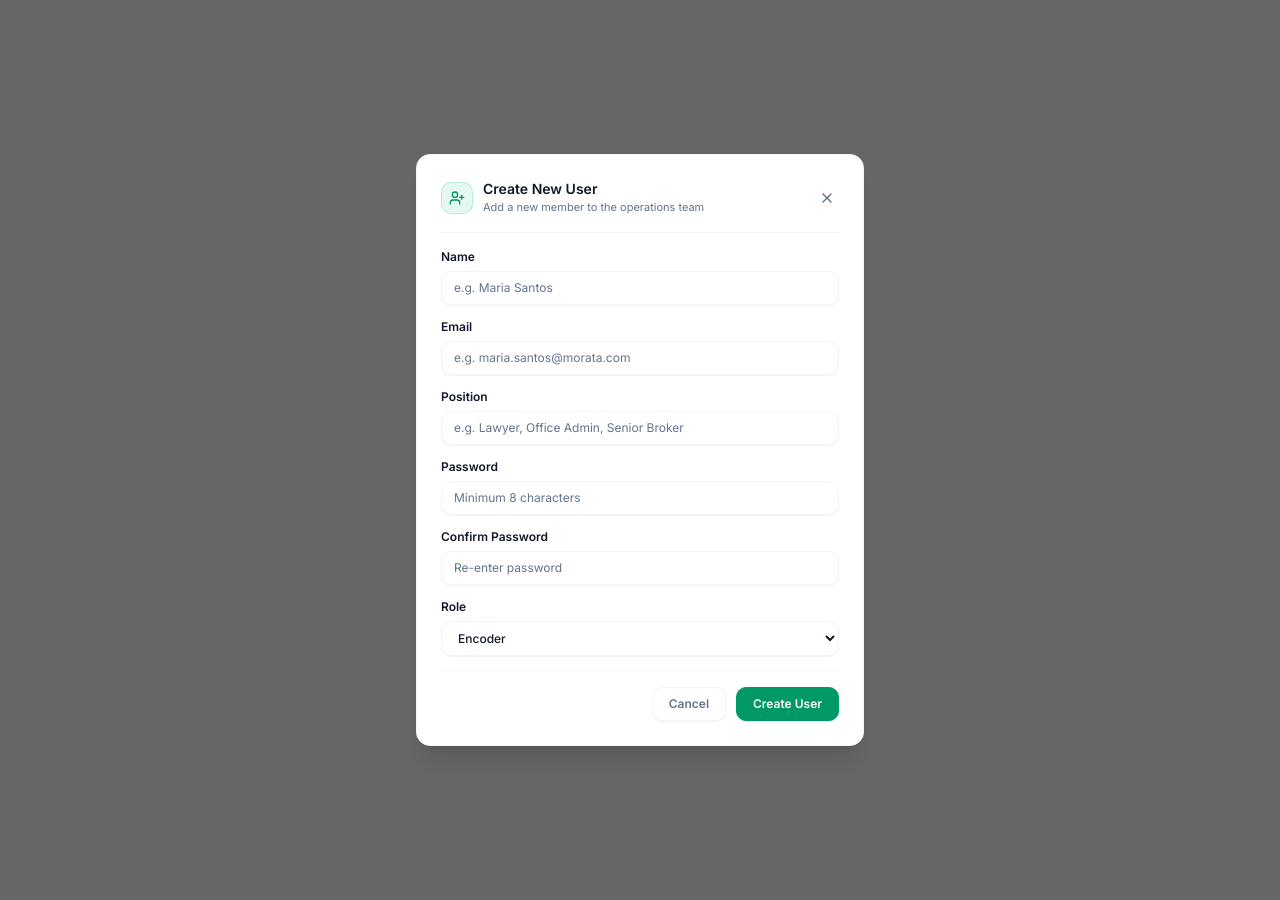
it: UserFormModal › shows a local error and blocks submit when passwords do not match
Step 1. Type "Ichihara" into the field labelled "Name" → x=640, y=288, box left=441, top=271, right=839, bottom=305
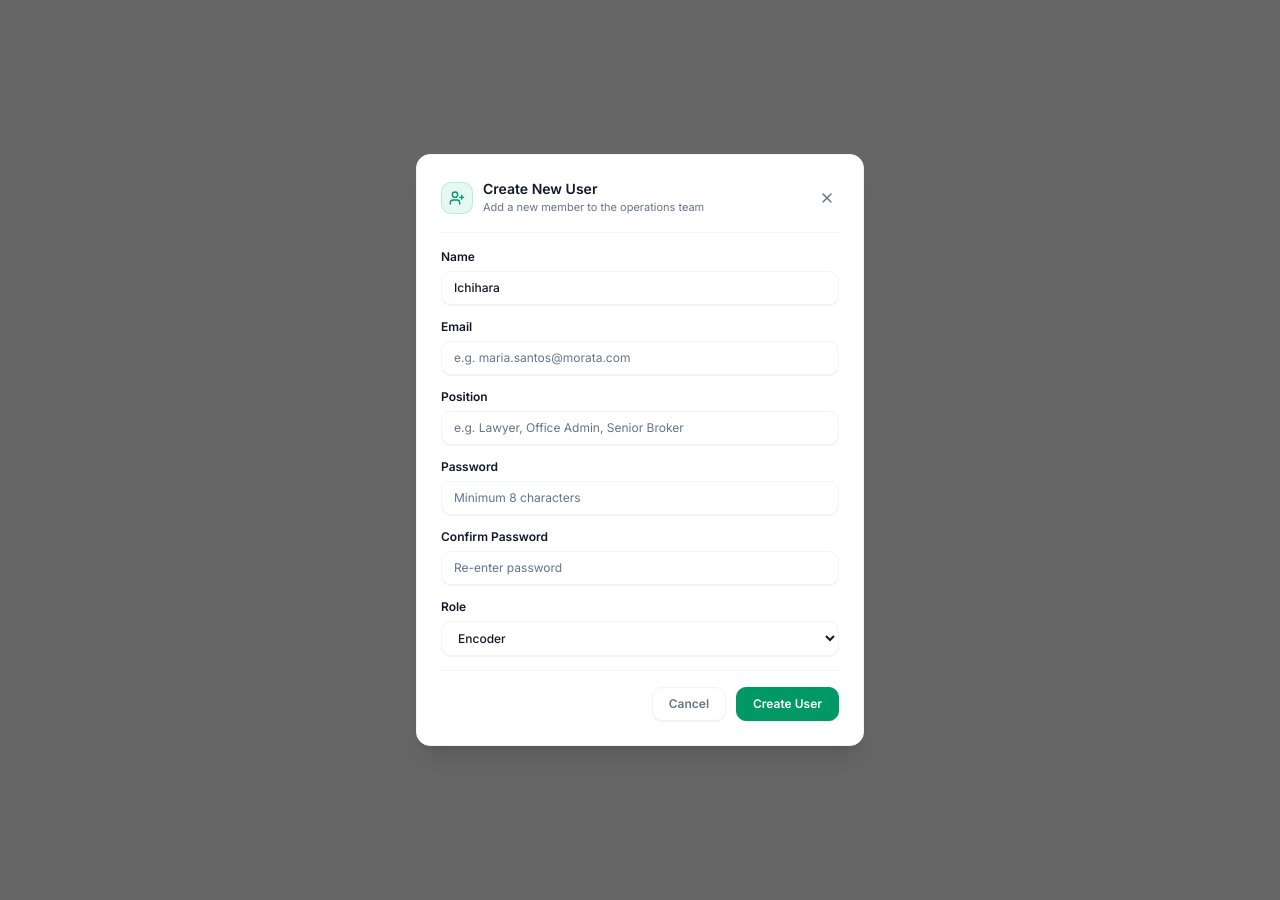
Step 2. Type "ichihara@morata.com" into the field labelled "Email" → x=640, y=358, box left=441, top=341, right=839, bottom=375
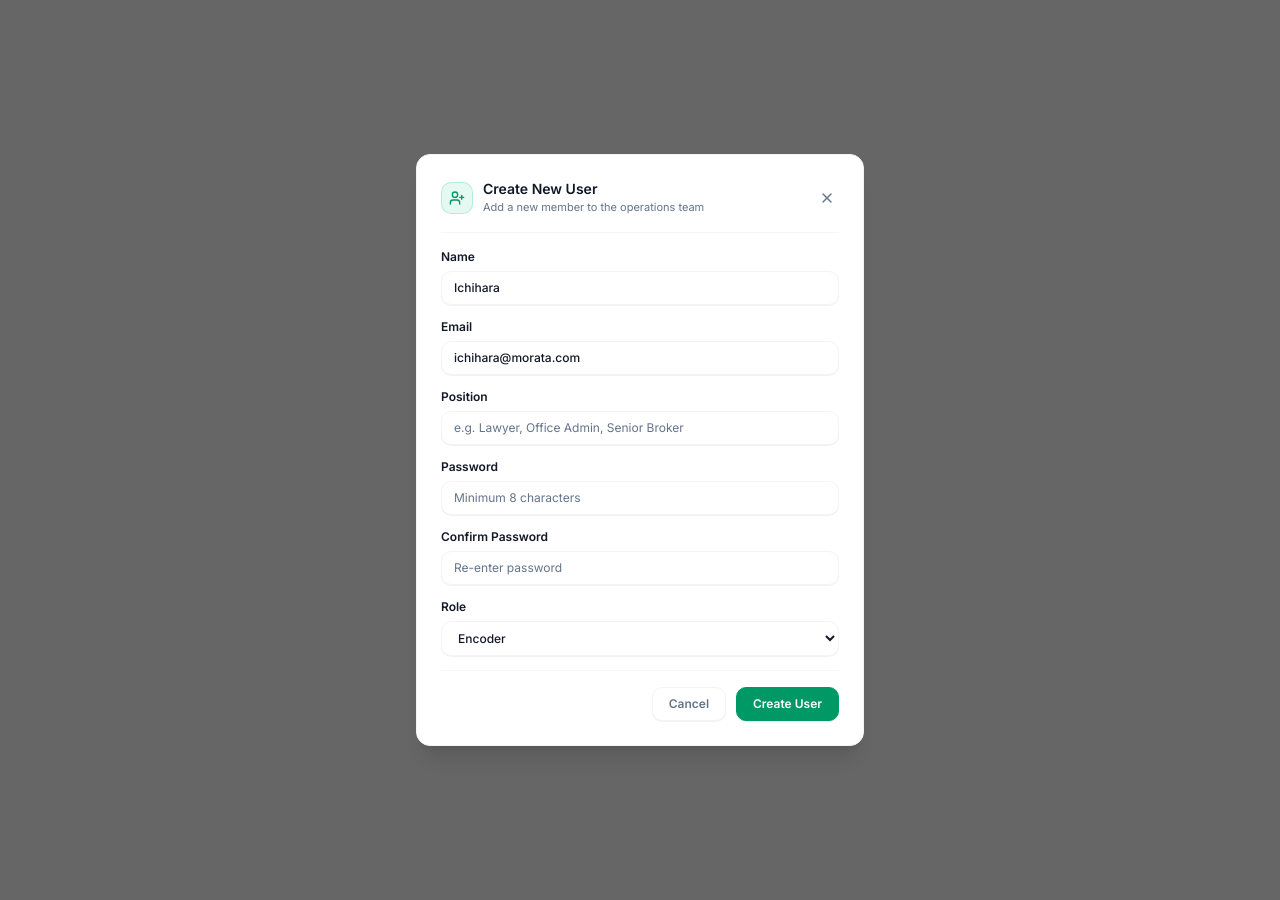
Step 3. Type "password123" into the password field labelled "Password" → x=640, y=498, box left=441, top=481, right=839, bottom=515
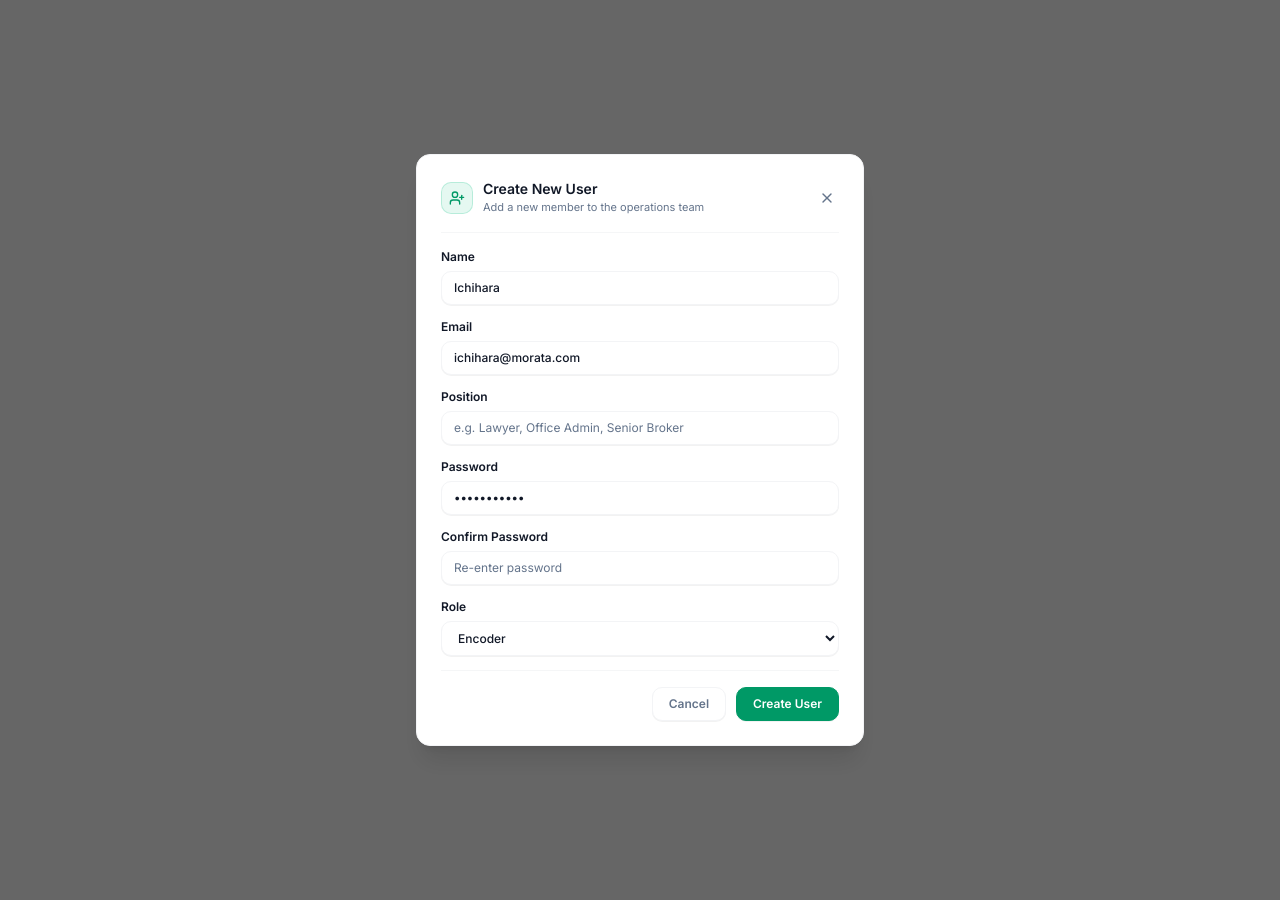
Step 4. Type "password124" into the password field labelled "Confirm Password" → x=640, y=568, box left=441, top=551, right=839, bottom=585
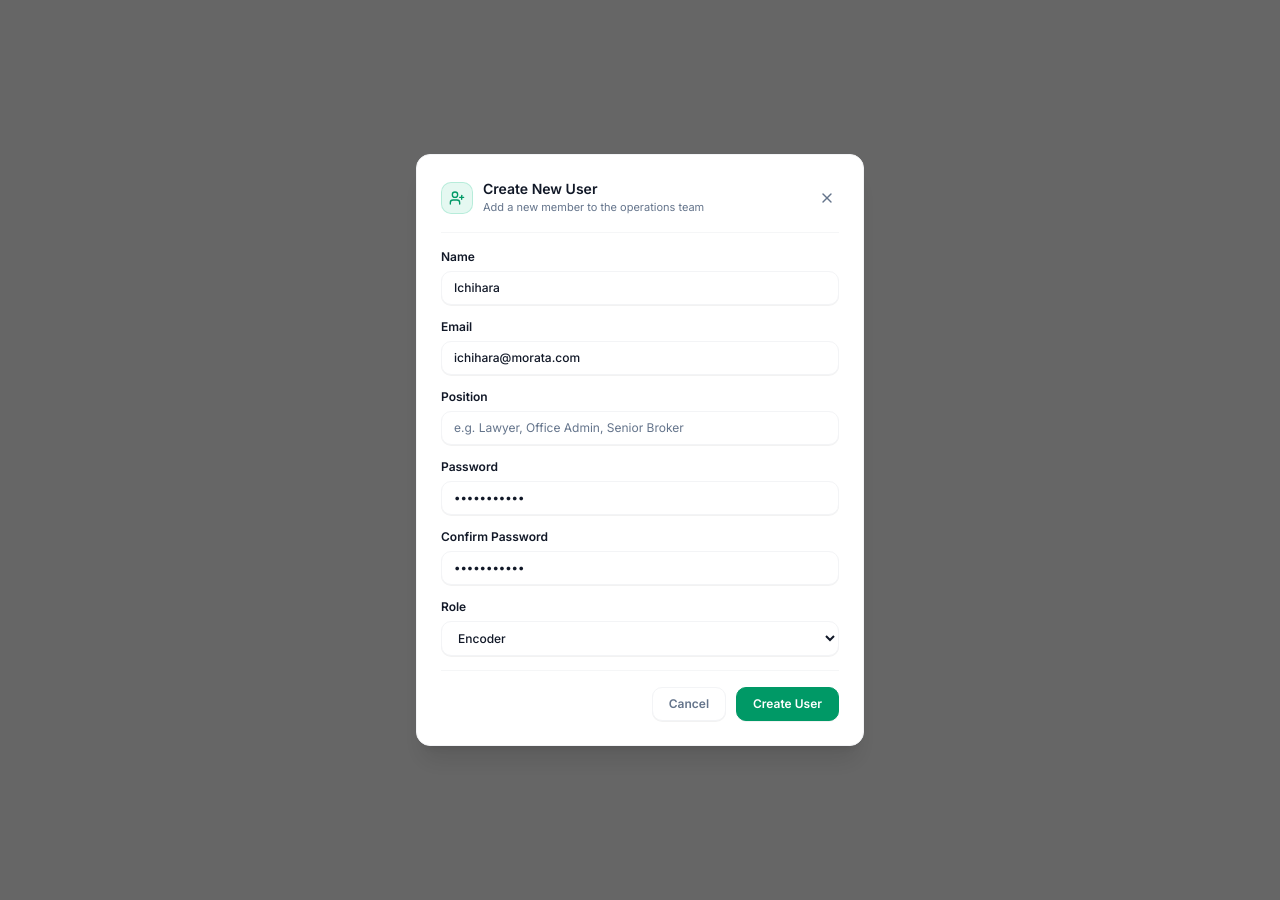
Step 5. Click the button "Create User" → x=788, y=704, box left=736, top=687, right=839, bottom=721
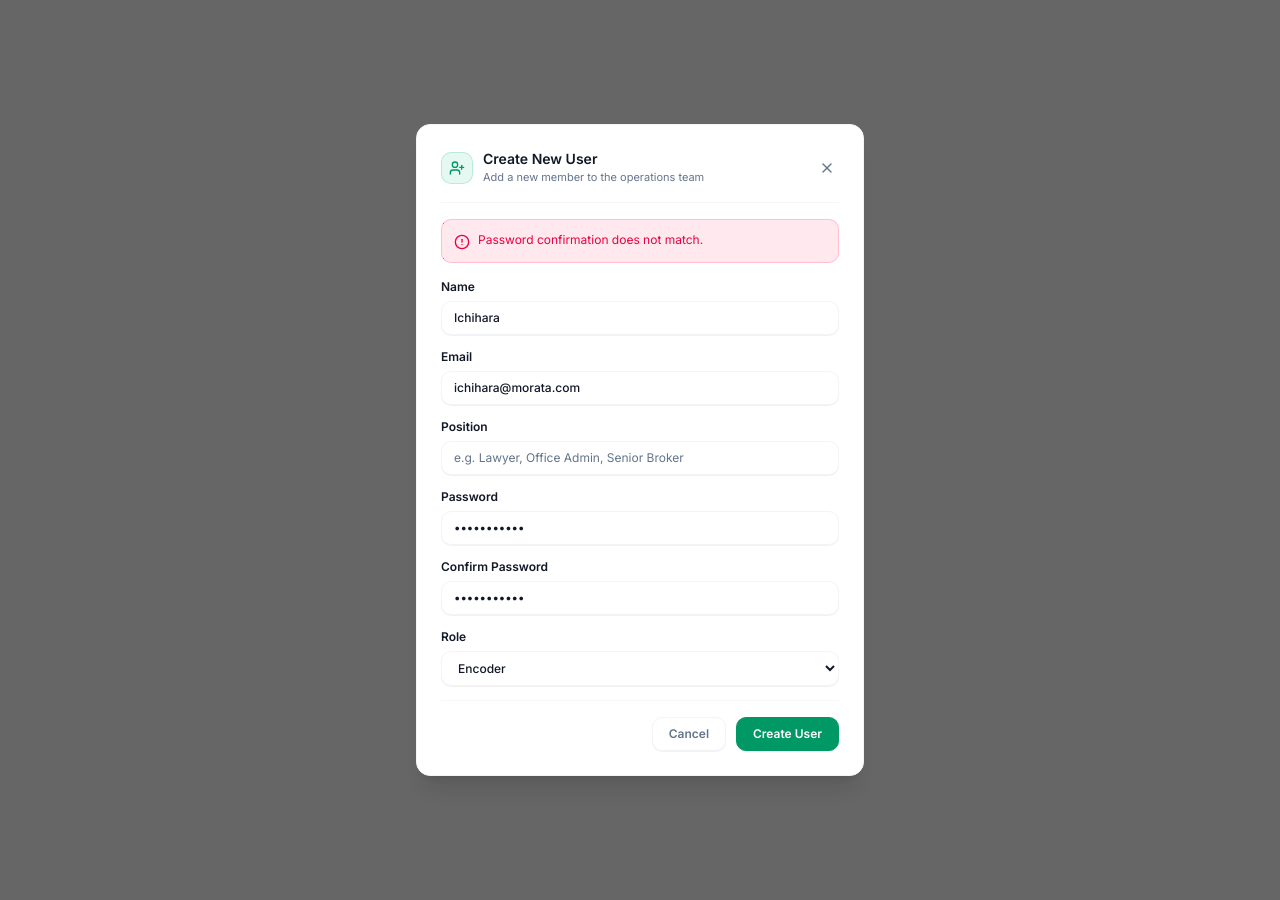
Expected: the text "Password confirmation does not match." is shown, left=478, top=232, right=703, bottom=248
